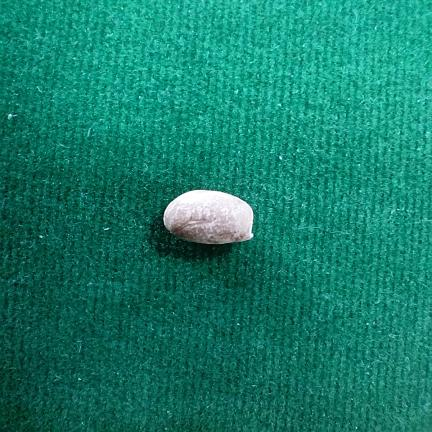shell: (164, 190, 253, 244)
